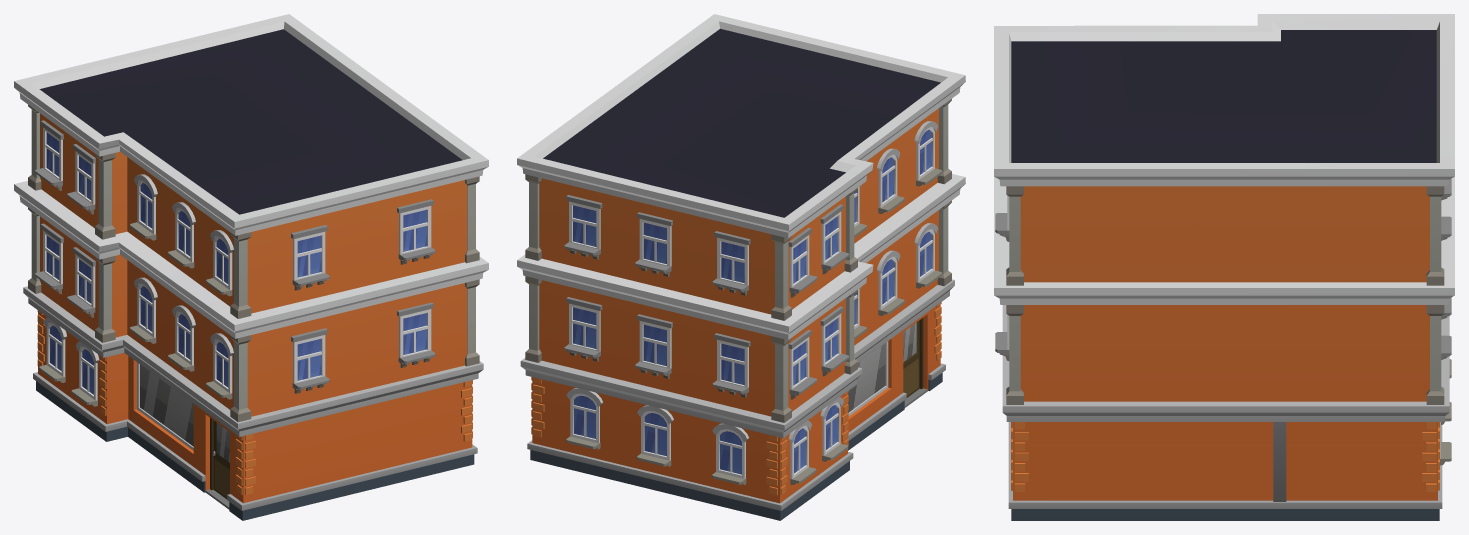
File: Building_1_3_F.glb
The picture shows the model from 3 angles, left to right: view 1: azimuth 30°, elevation 25°; view 2: azimuth 150°, elevation 25°; view 3: azimuth 270°, elevation 25°; orthographic projection. The views are drawn at different scales.
Parts seen in each view (by area): view 1: Building_1_3_F; view 2: Building_1_3_F; view 3: Building_1_3_F.
Boxes of the visible parts, bbox=[...] form: Building_1_3_F: bbox=[14, 14, 488, 520]; Building_1_3_F: bbox=[517, 14, 965, 520]; Building_1_3_F: bbox=[994, 14, 1454, 520].
Bounding box in the file's own units: 8.41 × 9 × 10.57.
3 materials, 3 textured.
